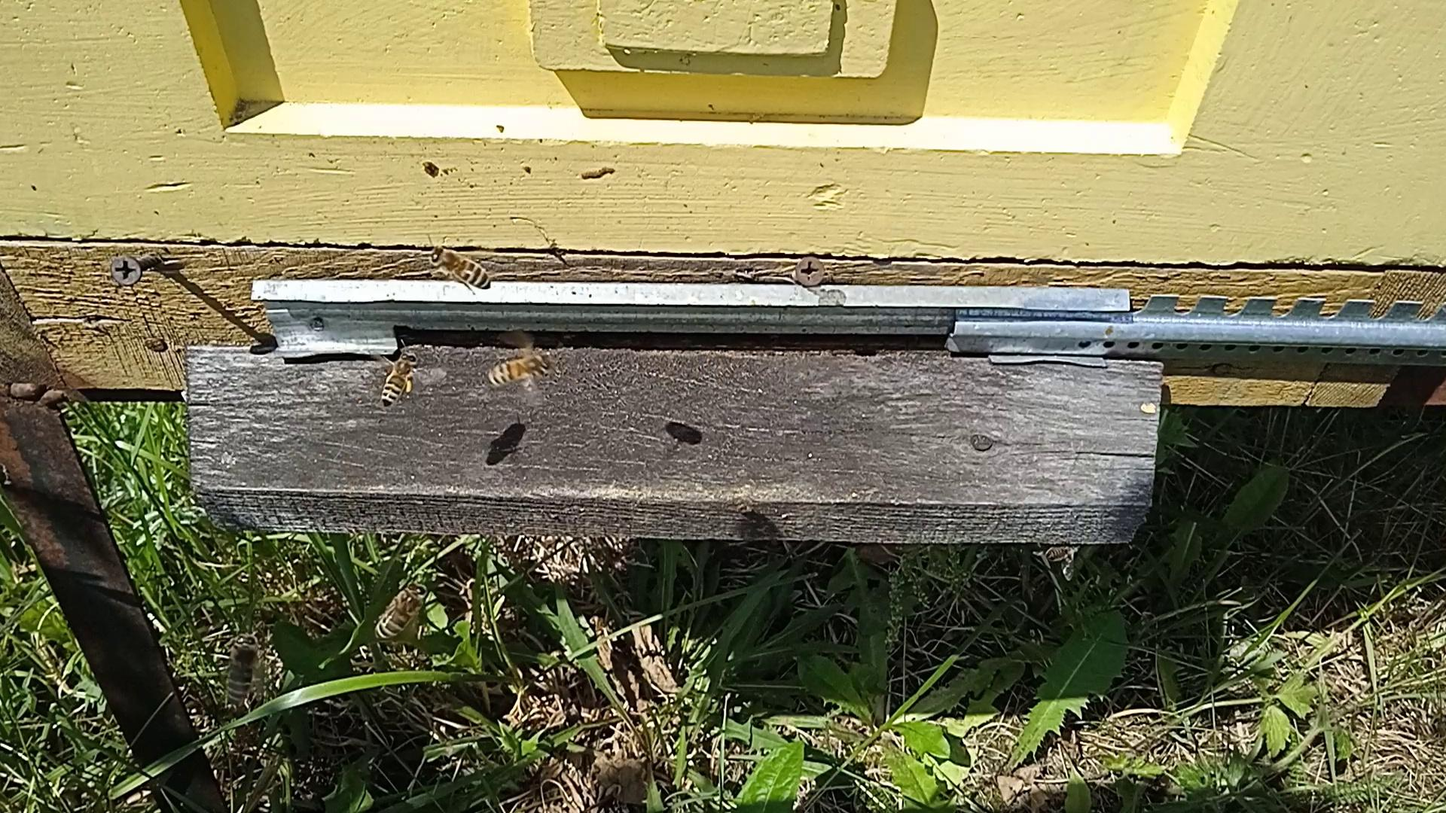worker-bee: (374, 583, 429, 639), (431, 248, 493, 291), (225, 633, 261, 705), (486, 352, 552, 391), (380, 350, 419, 408), (1044, 545, 1080, 575)
